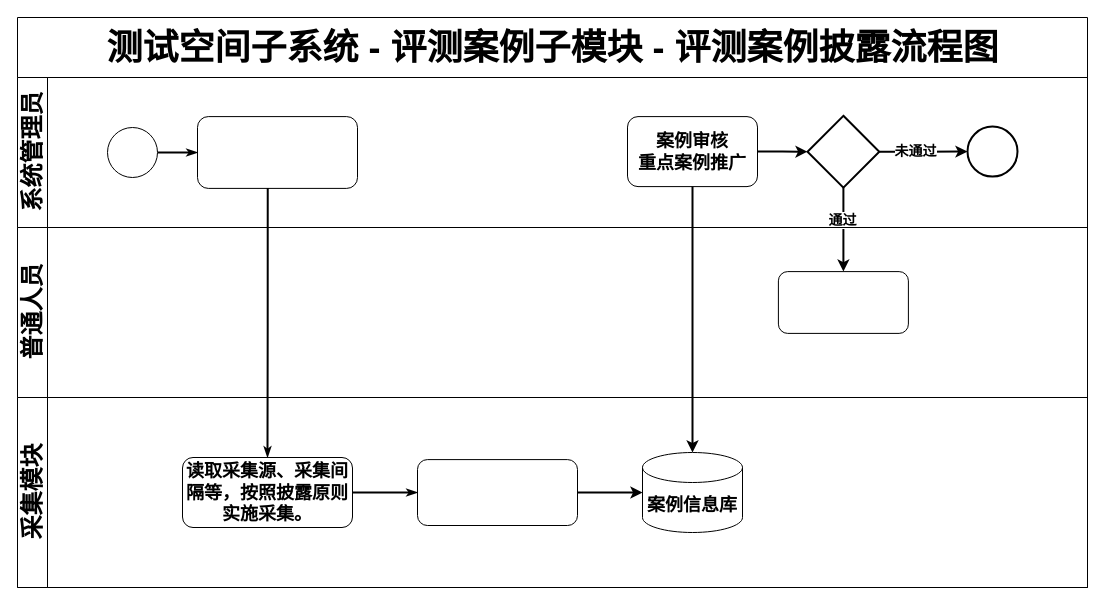
Image size: 1105x605. Some labels were removed from this diagram. Here are the shapes that lost their labels. From the top down, the centre of each, then its label:
pixel 277 152: 设置采集源，配置采集间隔。
pixel 843 151: 审核
pixel 842 302: 案例浏览
pixel 497 492: 分类整理 案例生成
